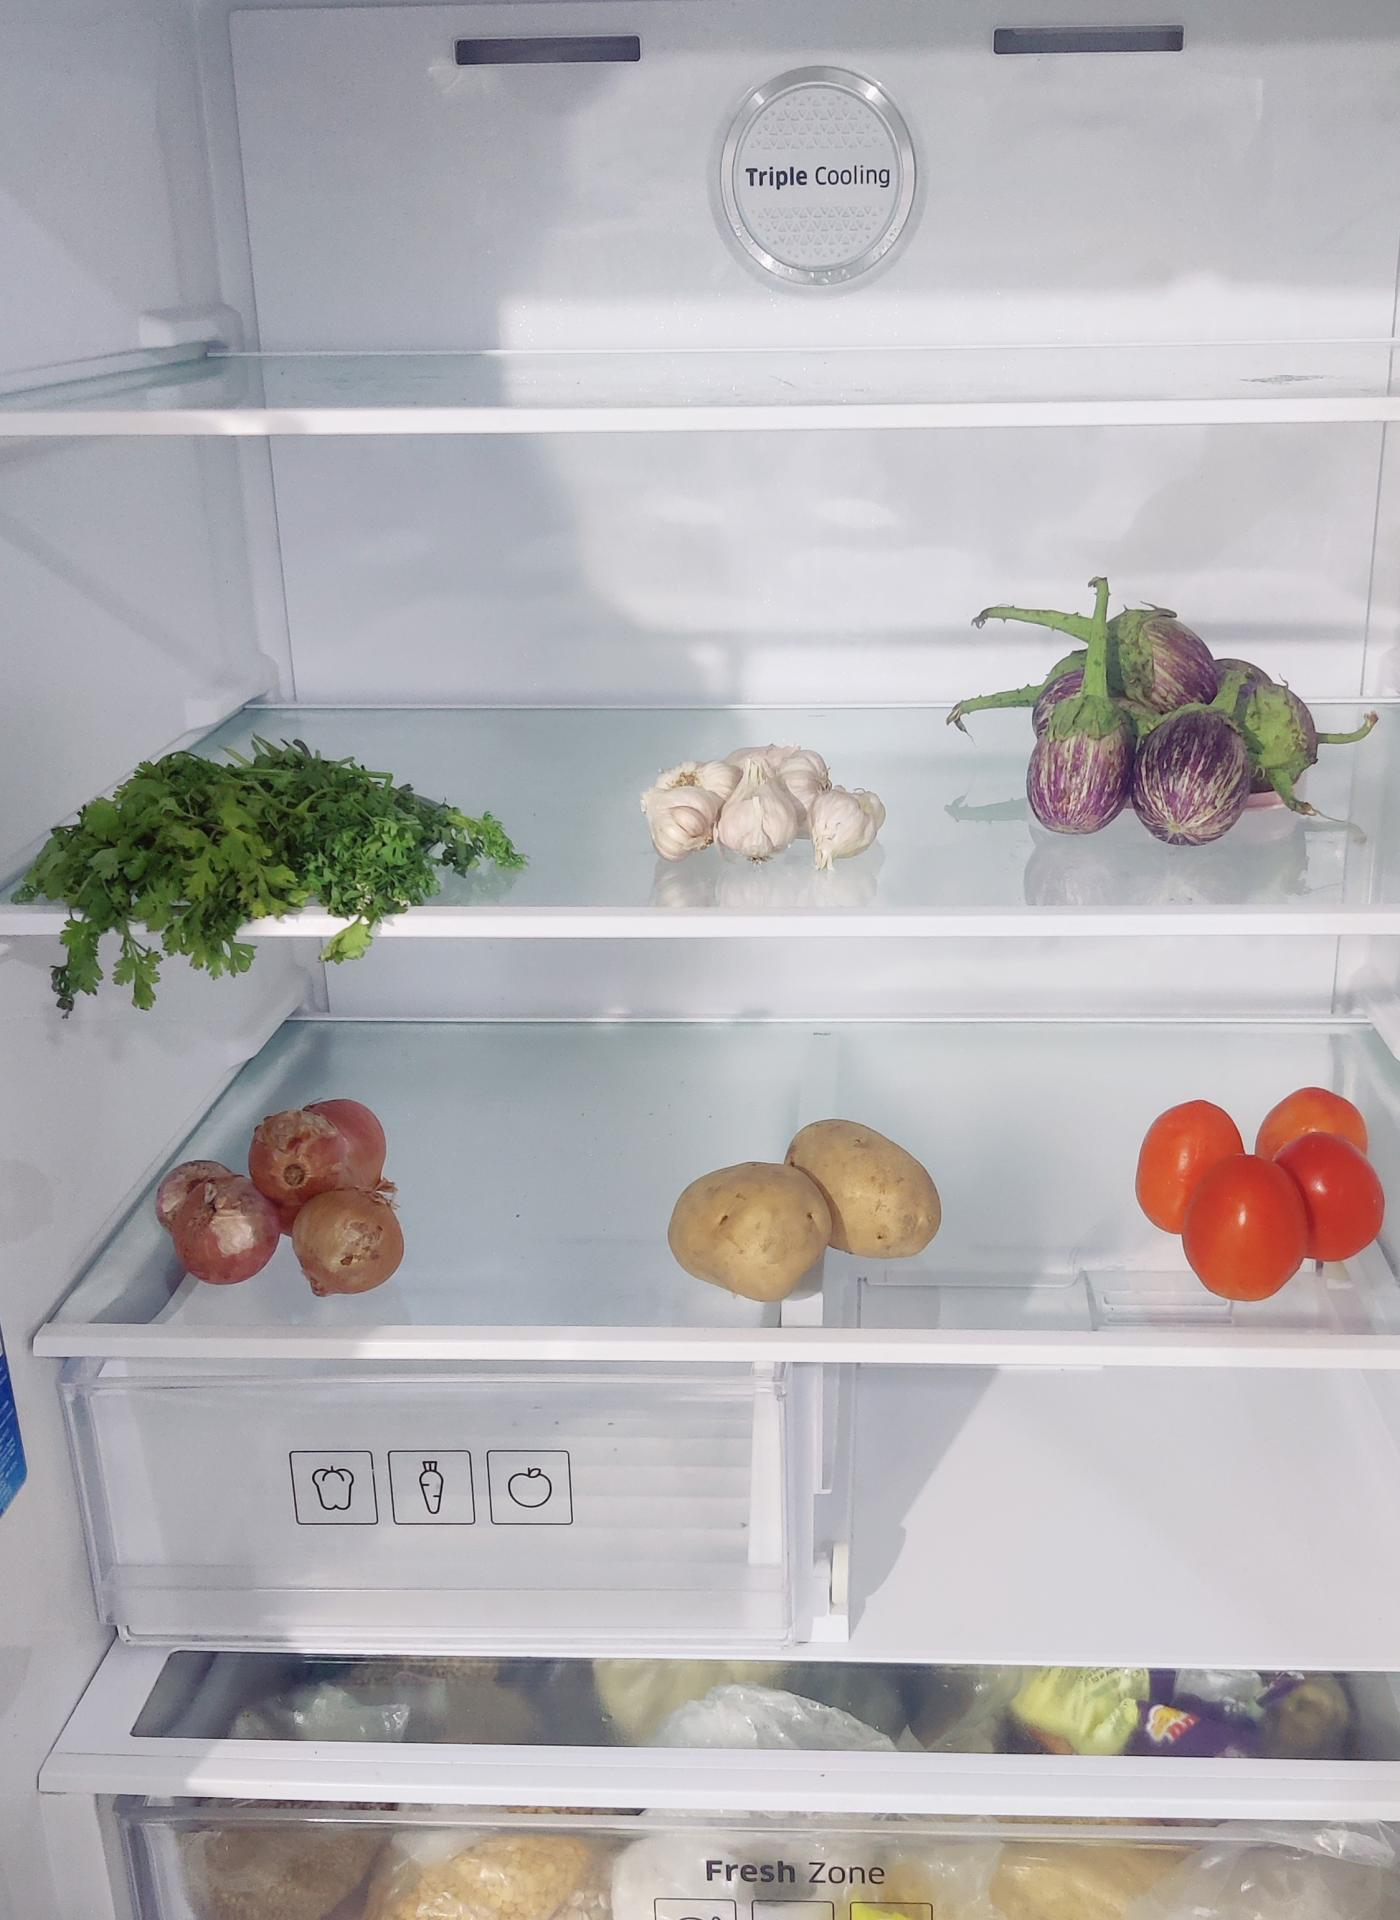brinjal: (1035, 605, 1322, 842)
coriander: (27, 744, 510, 953)
garlic: (644, 742, 886, 871)
onion: (151, 1097, 406, 1280)
potato: (668, 1111, 948, 1292)
tomato: (1135, 1085, 1390, 1300)
